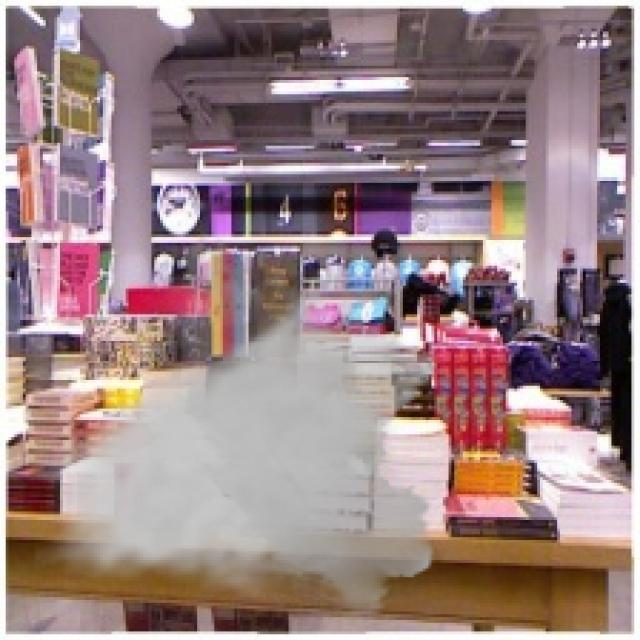smoke: (34, 228, 446, 628)
